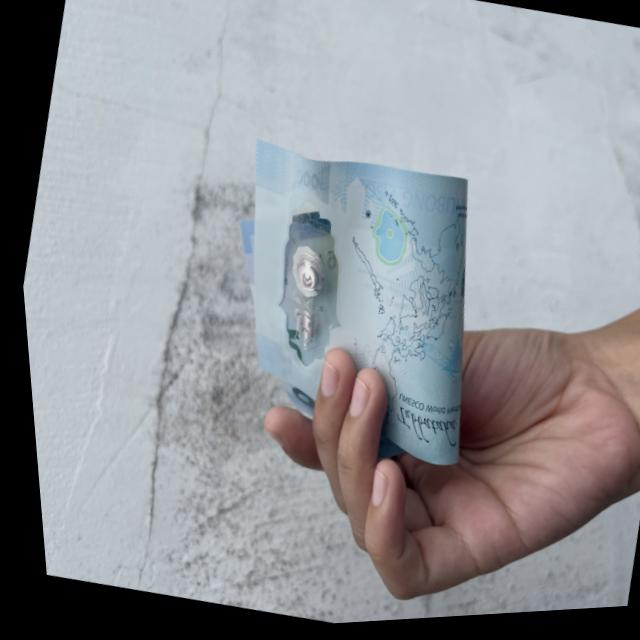clear_window: (236, 196, 363, 380)
